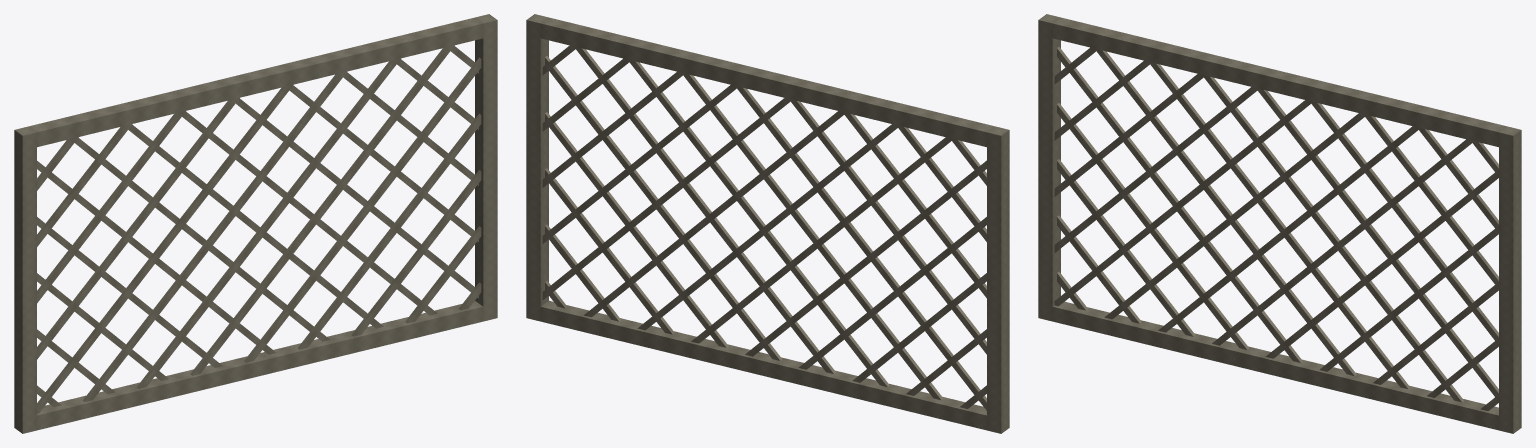
Rendered from MRP_Underfloor_Lattice_2x1p2m.fbx.
The picture shows the model from 3 angles, left to right: view 1: azimuth 30°, elevation 25°; view 2: azimuth 150°, elevation 25°; view 3: azimuth 330°, elevation 25°; orthographic projection.
Parts seen in each view (by area): view 1: Body; view 2: Body; view 3: Body.
Part boxes in pixels (x1,y1,x2,y2): Body: (14, 14, 497, 433); Body: (526, 14, 1009, 433); Body: (1038, 14, 1521, 433).
Bounding box in the file's own units: 2 × 1.2 × 0.06.
